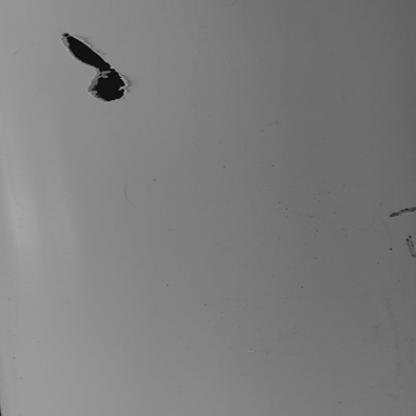fengxi: (385, 207, 415, 219)
kongdong: (61, 33, 129, 101)
